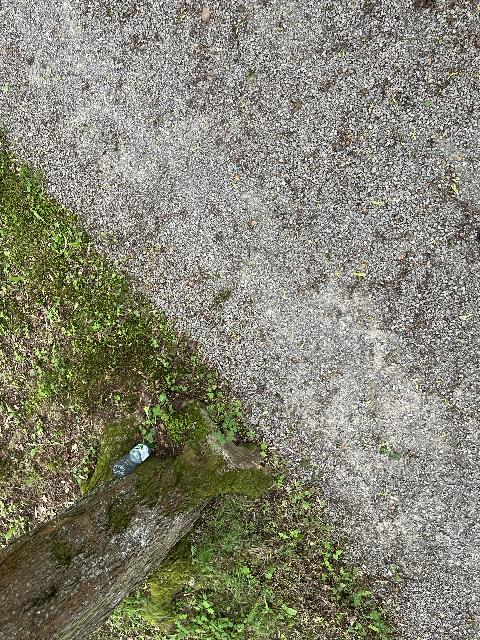plastic_bottle: (112, 440, 153, 479)
